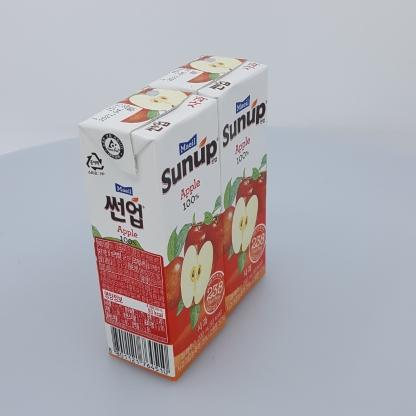-----------200ML: (78, 87, 226, 382), (147, 55, 268, 318)
